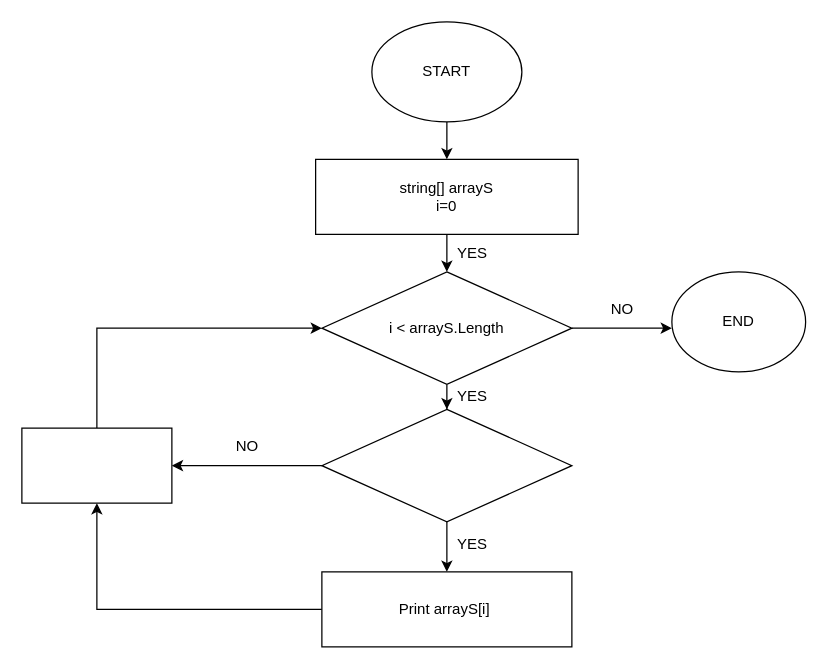
This 828x669 diagram has some shape labels left out. Each missing label, with the centre of its shape:
"arrayS[i].Length < 4" belongs at point (446, 465).
"i=i+1" belongs at point (96, 465).
